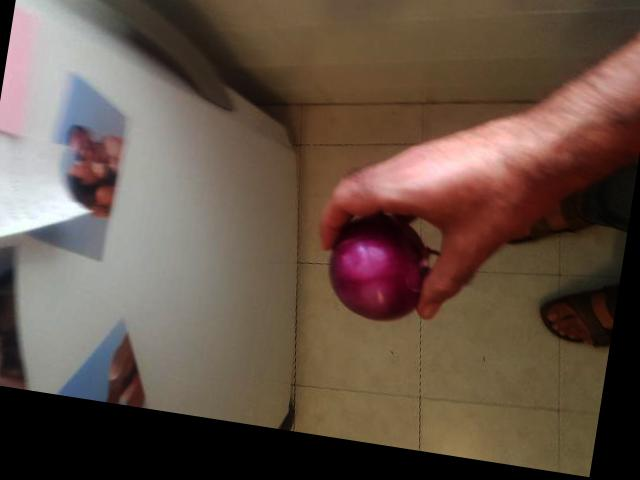onion: (321, 211, 438, 322)
